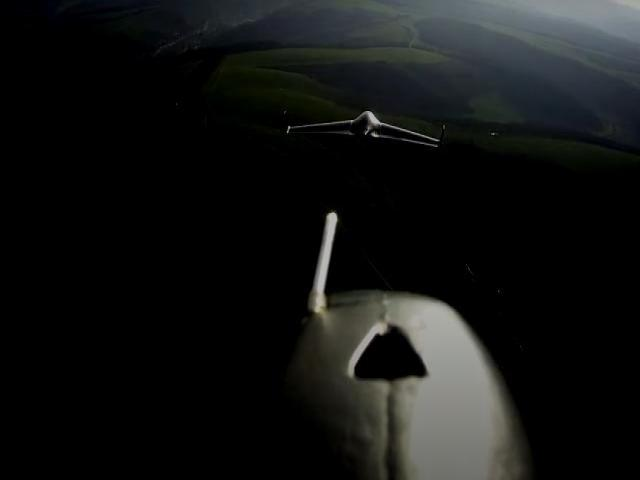iha: (280, 103, 450, 148)
